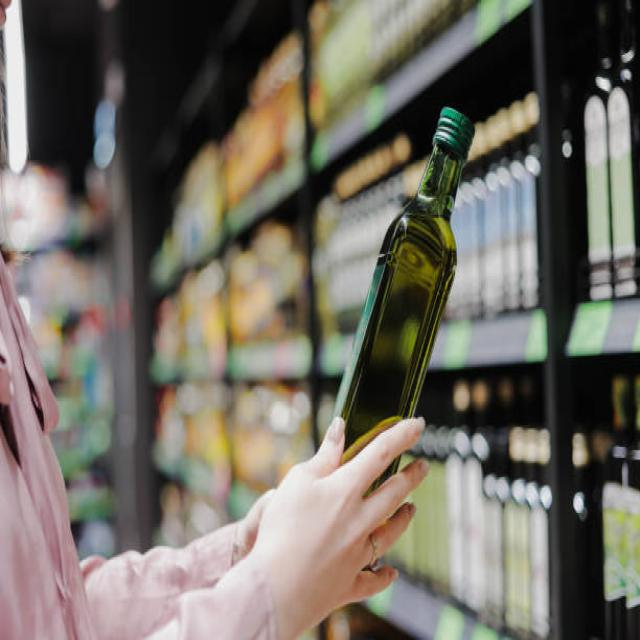article: (334, 107, 474, 460)
hands: (249, 419, 427, 637)
